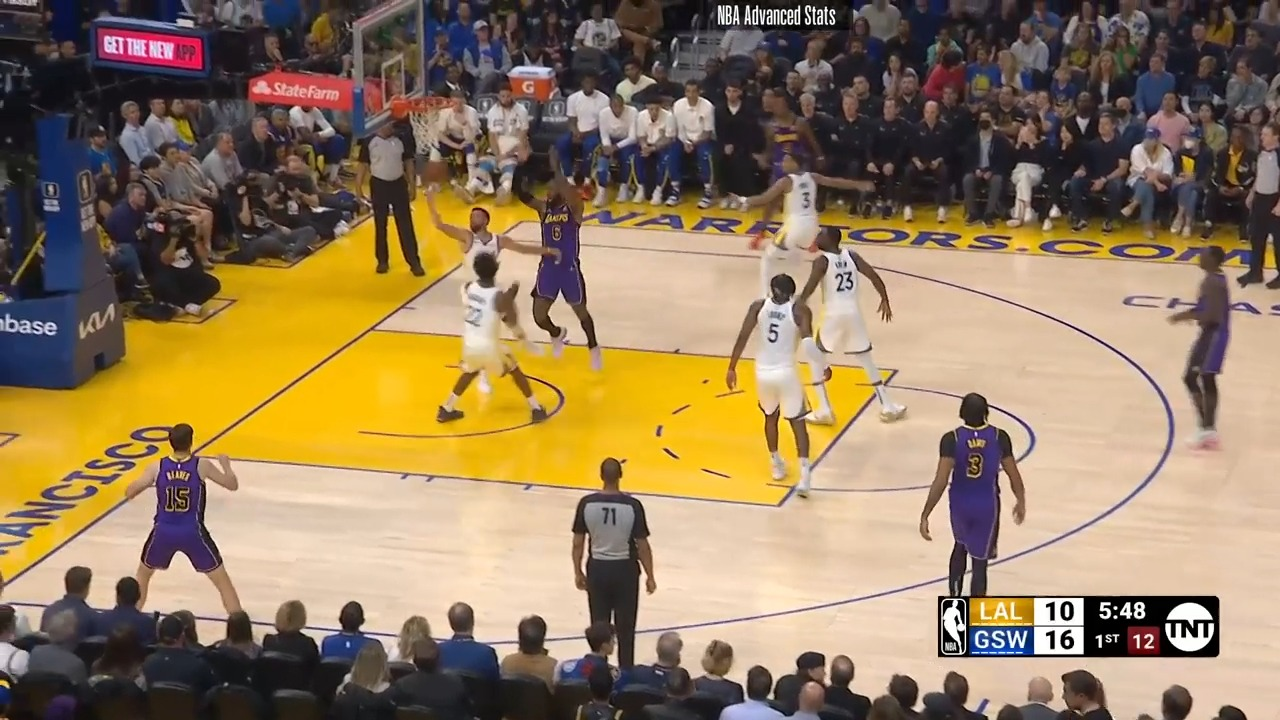net: (389, 91, 463, 162)
player: (121, 416, 248, 618), (914, 390, 1033, 601), (736, 149, 847, 369), (722, 275, 825, 502), (433, 253, 557, 433), (798, 225, 900, 429), (521, 156, 611, 374), (1157, 241, 1237, 463), (419, 171, 541, 287)
referee: (565, 452, 661, 647), (367, 116, 435, 285), (1244, 111, 1280, 291)
